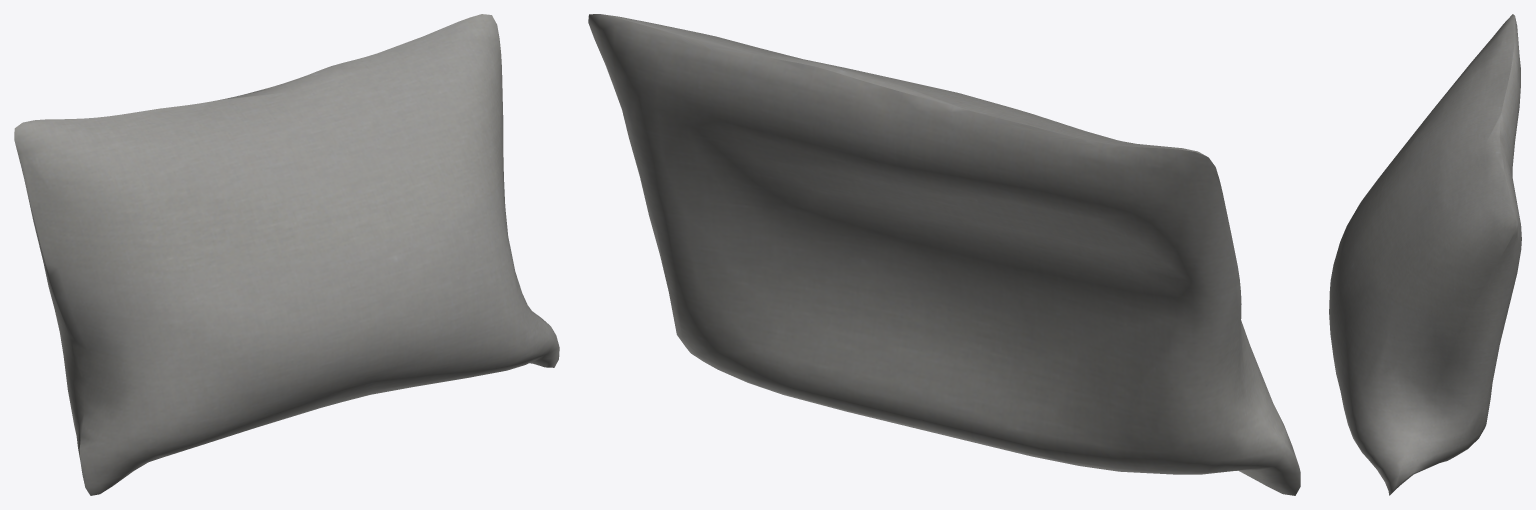
File: TheMuraka_Int_Pillow2.fbx
3 views of the same model, side by side, from view 1: azimuth 30°, elevation 25°; view 2: azimuth 150°, elevation 25°; view 3: azimuth 270°, elevation 25° (orthographic). The views are drawn at different scales.
Parts seen in each view (by area): view 1: pilow2; view 2: pilow2; view 3: pilow2.
Boxes of the visible parts, x1,y1,x2,y2 form: pilow2: (14, 14, 559, 495); pilow2: (588, 14, 1300, 495); pilow2: (1329, 14, 1521, 495).
Bounding box in the file's own units: 84.59 × 53.3 × 32.32.
